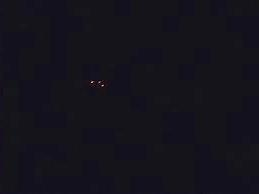Plane: (83, 74, 114, 93)
